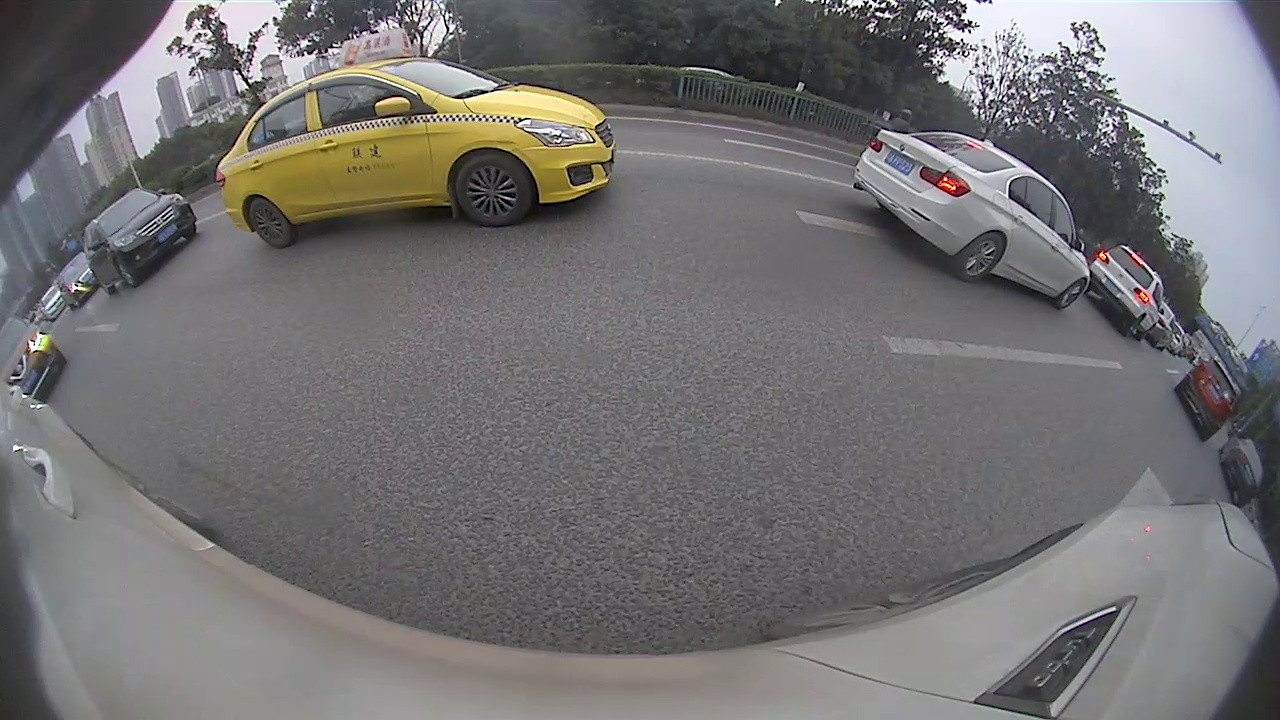car: (217, 29, 616, 248), (851, 127, 1091, 310), (85, 190, 197, 296), (1095, 242, 1164, 340), (0, 314, 68, 401), (1176, 355, 1238, 443), (1218, 439, 1266, 509), (55, 249, 98, 308)
front: (455, 150, 534, 229), (1054, 280, 1086, 310), (116, 257, 139, 289)
rear: (956, 231, 1007, 283), (247, 196, 292, 249)
